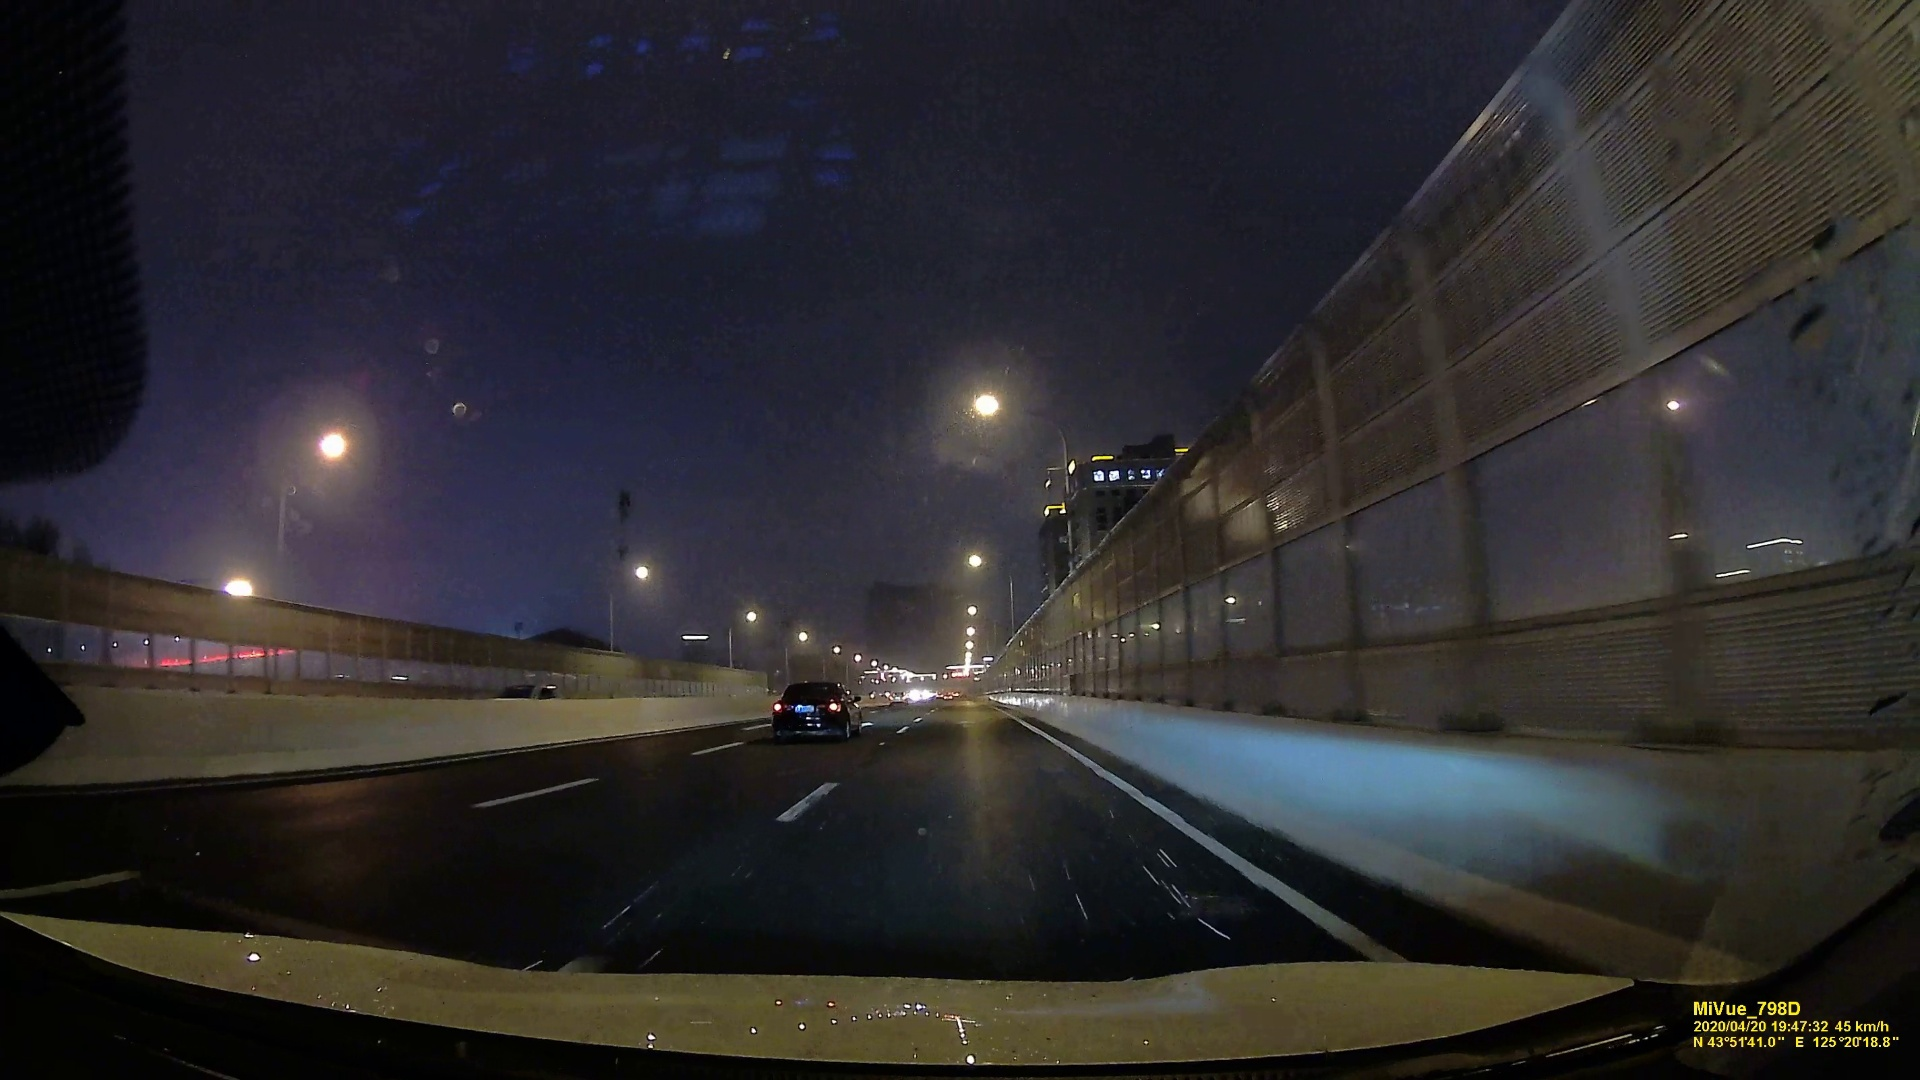vehicle: (771, 678, 862, 741)
